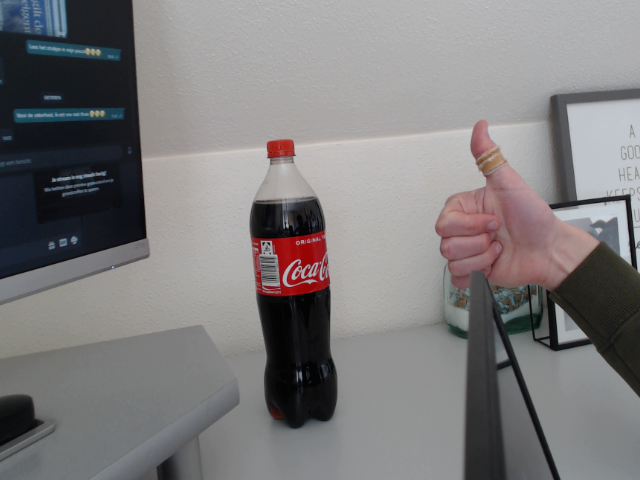bottle: (248, 138, 340, 428)
